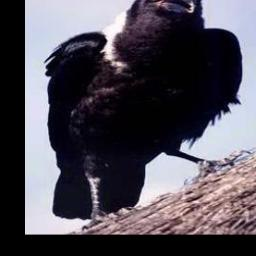Crow: (41, 0, 248, 226)
